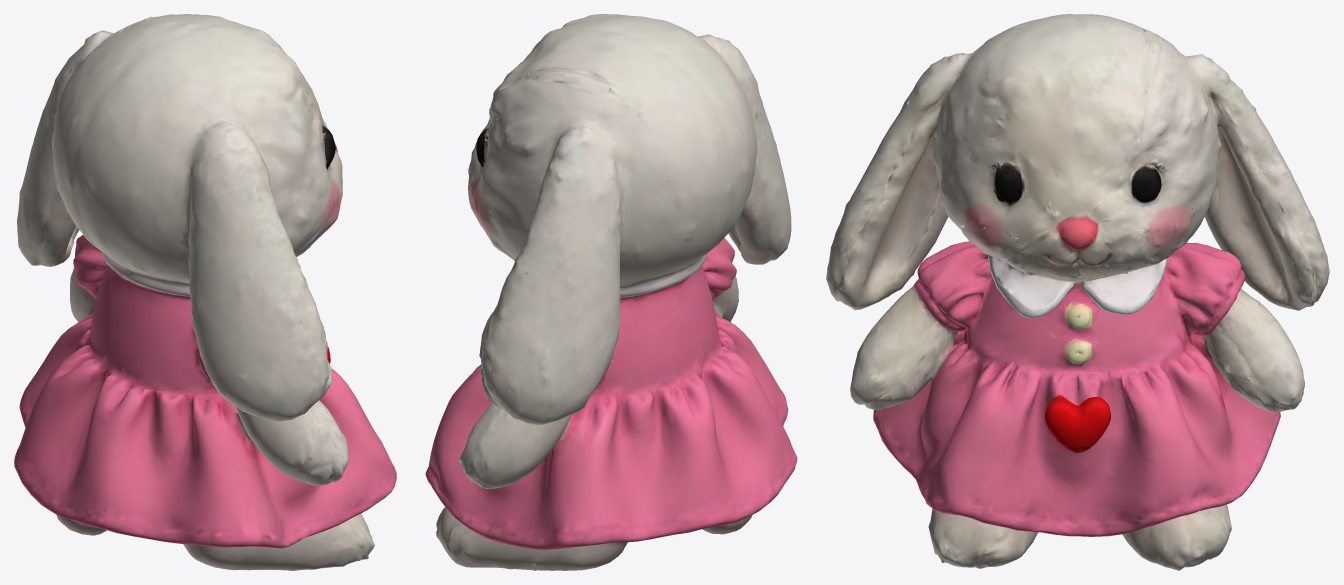
File: keepsake-hello-kitty.glb
The picture shows the model from 3 angles, left to right: view 1: azimuth 30°, elevation 25°; view 2: azimuth 150°, elevation 25°; view 3: azimuth 270°, elevation 25°; orthographic projection. The views are drawn at different scales.
Parts seen in each view (by area): view 1: tripo_node_0584edbf-545f-4a8d-b444-145f7cf122e0; view 2: tripo_node_0584edbf-545f-4a8d-b444-145f7cf122e0; view 3: tripo_node_0584edbf-545f-4a8d-b444-145f7cf122e0.
Boxes of the visible parts, x1,y1,x2,y2 form: tripo_node_0584edbf-545f-4a8d-b444-145f7cf122e0: [14, 14, 396, 570]; tripo_node_0584edbf-545f-4a8d-b444-145f7cf122e0: [425, 14, 797, 570]; tripo_node_0584edbf-545f-4a8d-b444-145f7cf122e0: [826, 14, 1329, 570].
Bounding box in the file's own units: 0.5866 × 0.9756 × 0.9036.
Materials: 1 (1 with a texture image).
